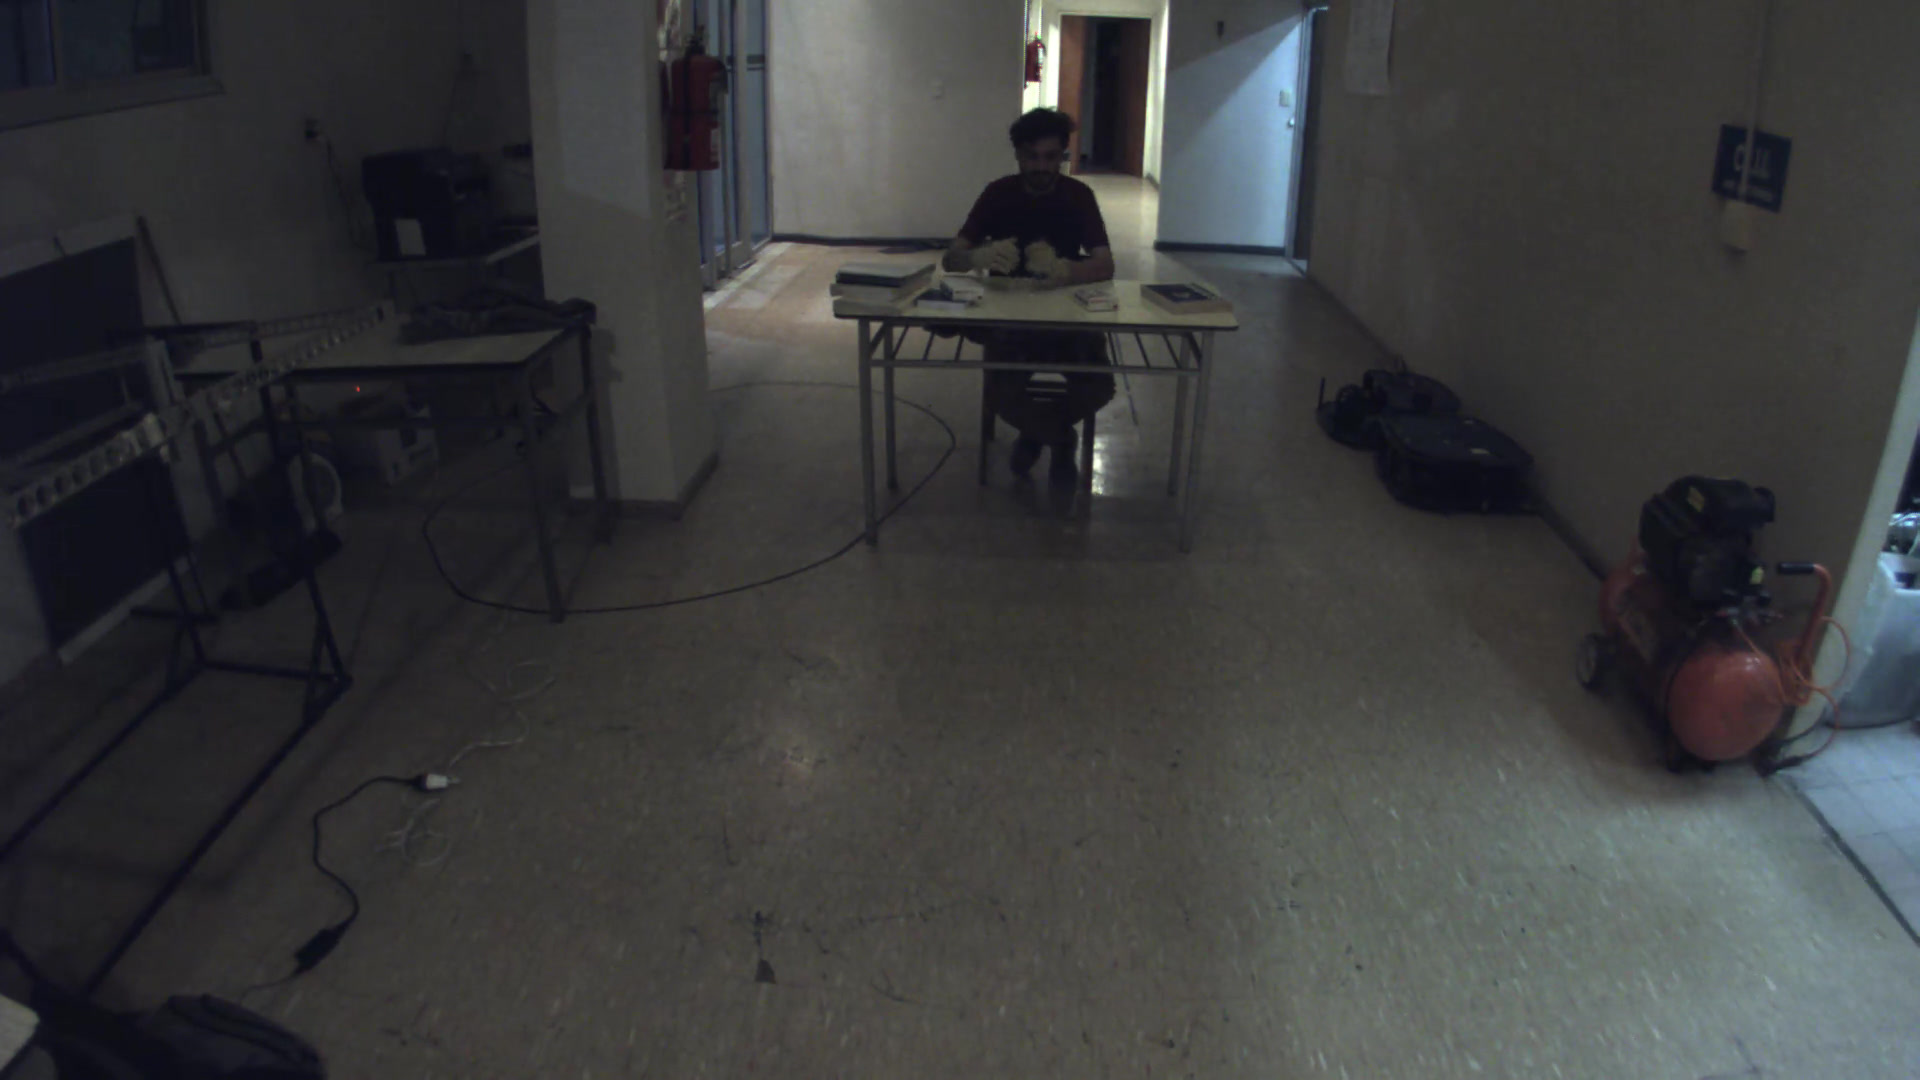hand: (971, 232, 1021, 278), (1022, 236, 1069, 280)
